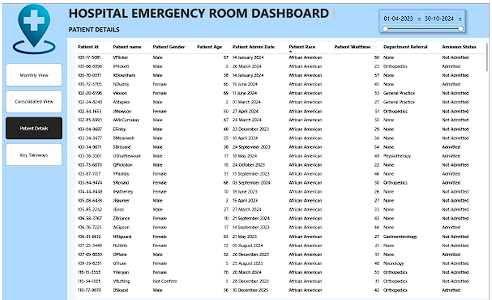

The dashboard page shown, as its layout file describes it:
{"tool":"powerbi","page":{"name":"Patient Details","canvas":[2300,1400],"ordinal":2},"visuals":[{"type":"shape","box":[9.9,0,310,1400.5],"z":0},{"type":"shape","box":[318.6,0,1980.6,159.3],"z":1000},{"type":"textbox","box":[321,9.5,1260.2,76.1],"z":2000},{"type":"textbox","box":[321,95.1,413.7,64.2],"z":3000},{"type":"slicer","fields":{"Values":["DateTable.Date"]},"box":[1783.3,26.2,404.2,107],"z":4000},{"type":"image","box":[9.5,0,309.1,237.8],"z":5000},{"type":"tableEx","fields":{"Values":["Hospital ER_Data.Patient Id","Hospital ER_Data.Patient full name","Hospital ER_Data.Patient Gender","Sum(Hospital ER_Data.Patient Age)","Hospital ER_Data.Patient Admin Date","Hospital ER_Data.Patient Race","Sum(Hospital ER_Data.Patient Waittime)","Hospital ER_Data.Department Referral","Hospital ER_Data.Amission Status"]},"box":[359,178.3,1940.2,1203.1],"z":6000},{"type":"pageNavigator","box":[30.9,280.6,266.3,482.7],"z":7000}]}

Visuals, with their boxes in screenshot pixels (x1, y1, x2, y2), scaled from the page's 2300x1400 canvas onto the 492x300 screenshot:
shape: bbox(2, 0, 68, 299)
shape: bbox(68, 0, 491, 34)
textbox: bbox(69, 2, 338, 18)
textbox: bbox(69, 20, 157, 34)
slicer - DateTable.Date: bbox(381, 6, 468, 29)
image: bbox(2, 0, 68, 51)
tableEx - Hospital ER_Data.Patient Id x Hospital ER_Data.Patient full name: bbox(77, 38, 491, 296)
pageNavigator: bbox(7, 60, 64, 164)
